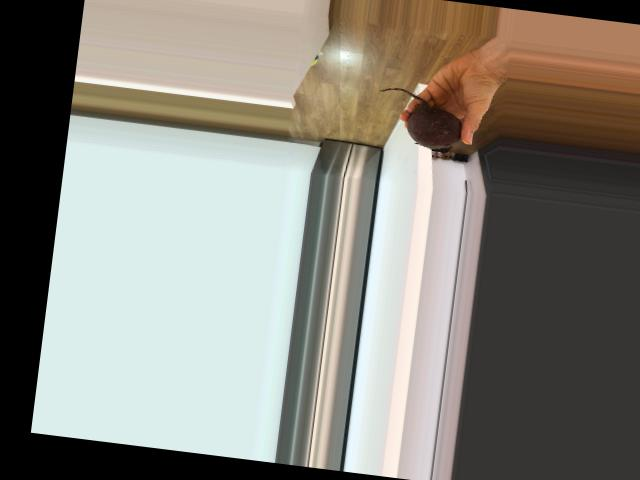beet: (372, 85, 465, 154)
